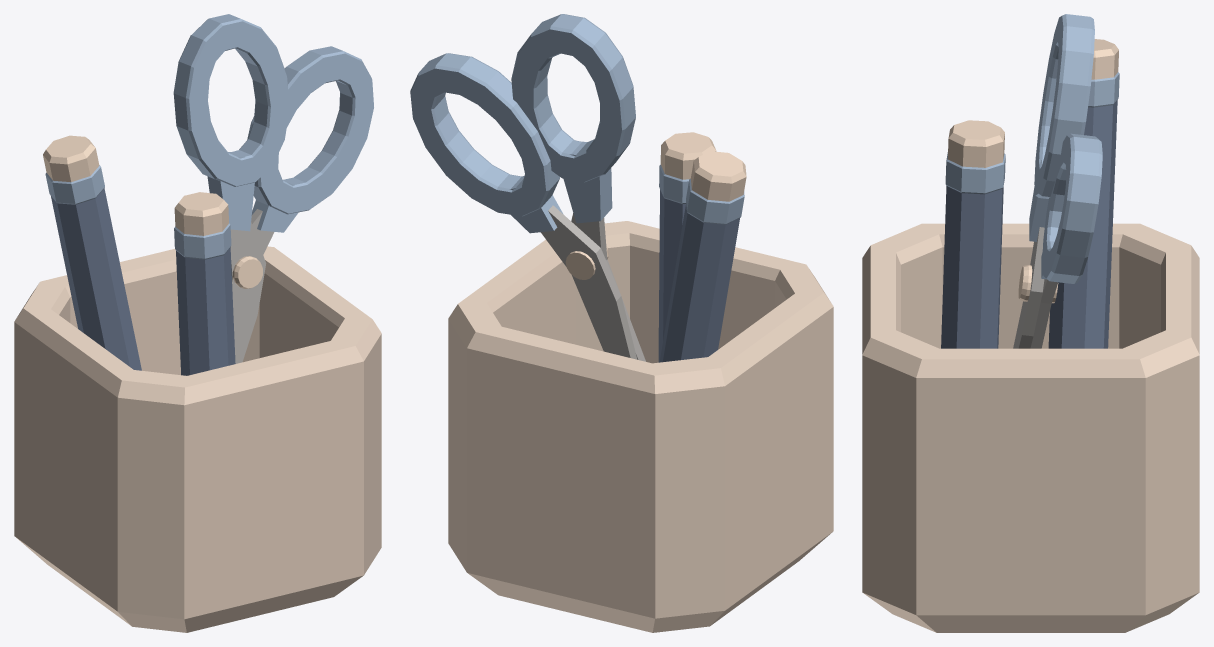
Rendered from pencil-holder.glb.
The picture shows the model from 3 angles, left to right: view 1: azimuth 30°, elevation 25°; view 2: azimuth 150°, elevation 25°; view 3: azimuth 270°, elevation 25°; orthographic projection. The views are drawn at different scales.
Visible parts, largest first — view 1: 01 笔筒, 04 剪刀, 02 铅笔 · 长, 03 铅笔 · 短; view 2: 01 笔筒, 04 剪刀, 02 铅笔 · 长, 03 铅笔 · 短; view 3: 01 笔筒, 04 剪刀, 03 铅笔 · 短, 02 铅笔 · 长.
Part boxes in pixels (bbox=[...]): 01 笔筒: bbox=[14, 246, 381, 632]; 04 剪刀: bbox=[173, 14, 373, 363]; 02 铅笔 · 长: bbox=[43, 135, 141, 370]; 03 铅笔 · 短: bbox=[174, 192, 235, 375]; 01 笔筒: bbox=[448, 221, 833, 632]; 04 剪刀: bbox=[410, 14, 645, 361]; 02 铅笔 · 长: bbox=[659, 151, 746, 362]; 03 铅笔 · 短: bbox=[658, 132, 716, 362]; 01 笔筒: bbox=[862, 223, 1199, 632]; 04 剪刀: bbox=[1013, 14, 1102, 348]; 03 铅笔 · 短: bbox=[941, 120, 1005, 348]; 02 铅笔 · 长: bbox=[1048, 39, 1119, 348].
Size of the model in its own units: 0.1227 by 0.19 by 0.1.
